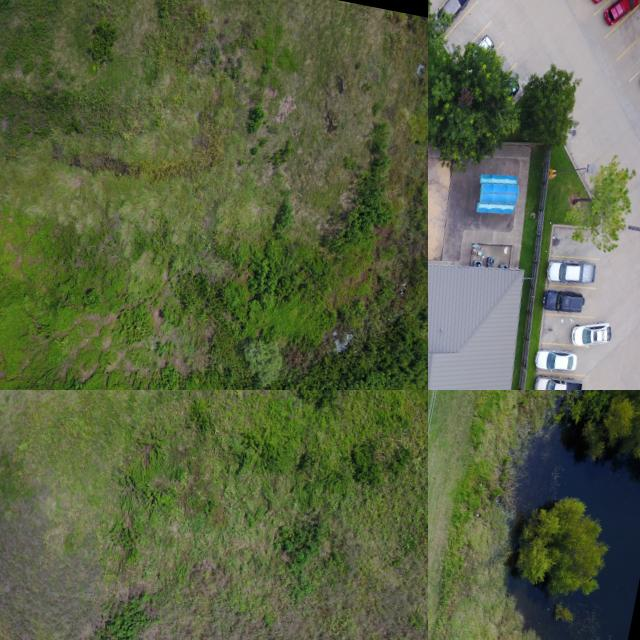fire: (508, 425, 640, 640)
